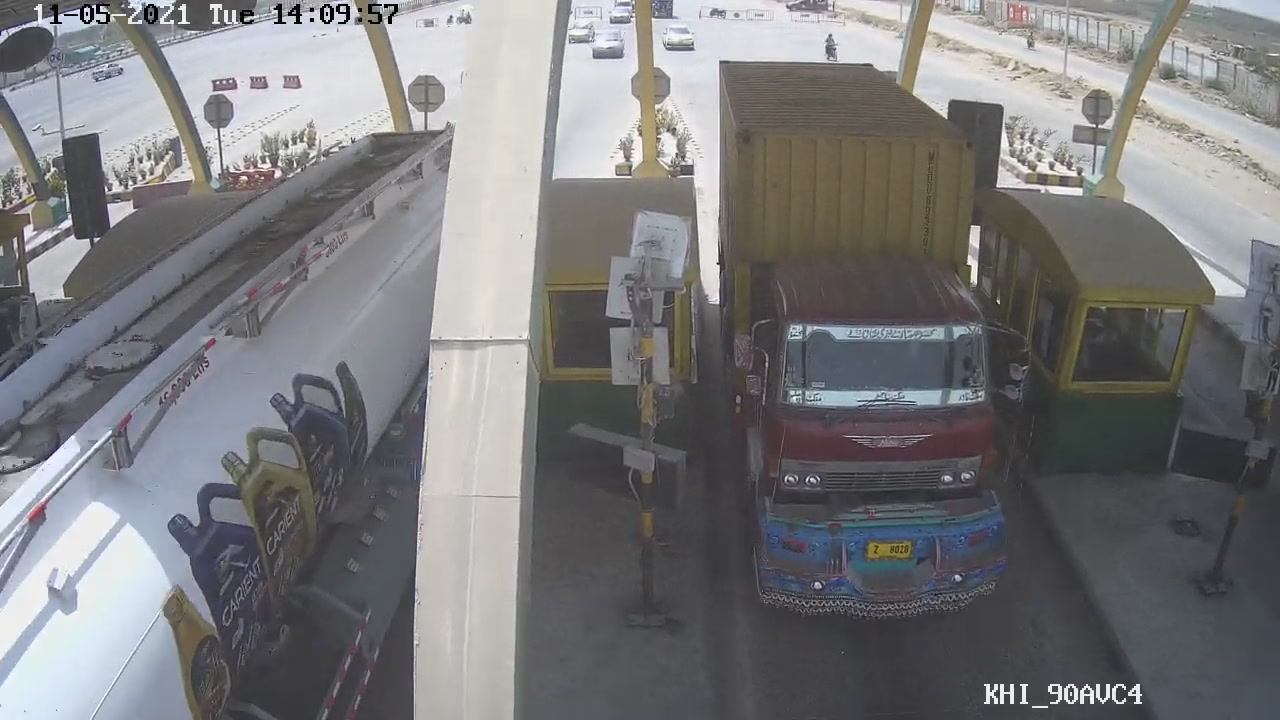F6: (713, 54, 1032, 627)
